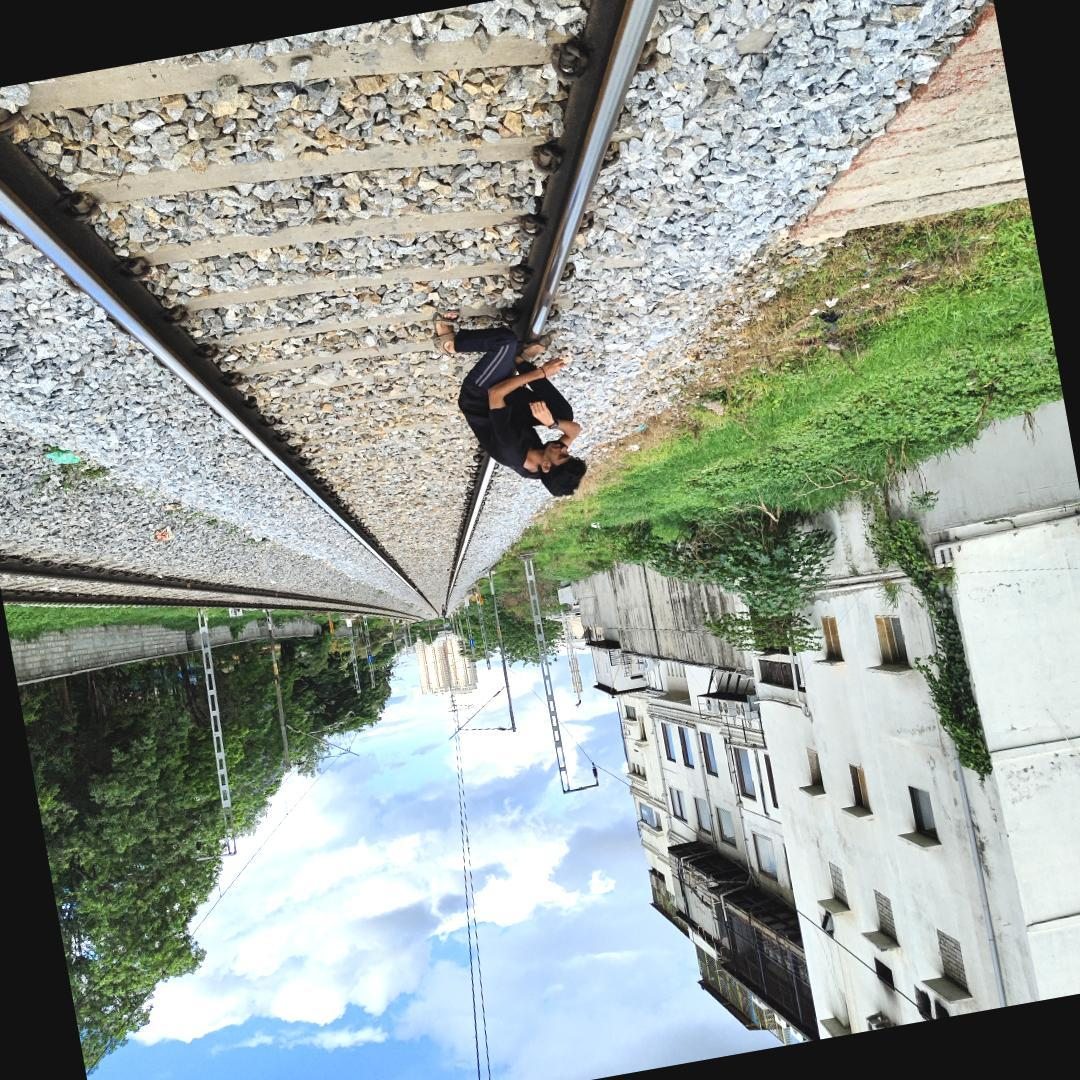sitting: (432, 308, 592, 514)
